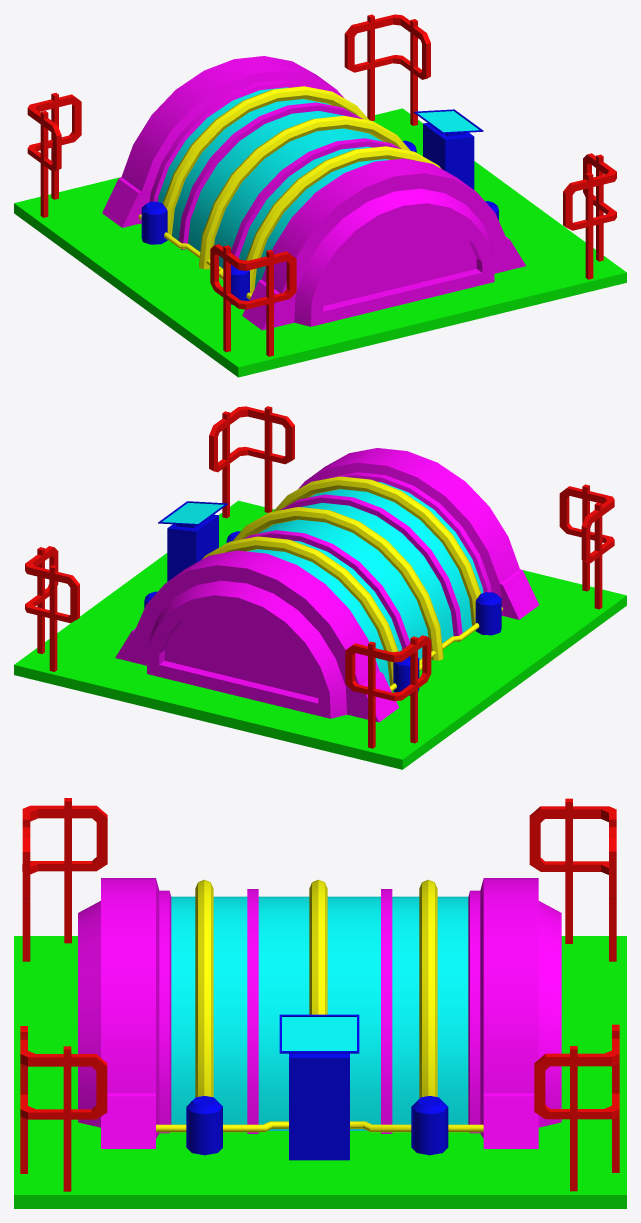
The model's file is SM_generator.FBX.
3 views of the same model, one above another, from view 1: azimuth 30°, elevation 25°; view 2: azimuth 150°, elevation 25°; view 3: azimuth 270°, elevation 25° (orthographic). The views are drawn at different scales.
Visible parts, largest first — view 1: generator; view 2: generator; view 3: generator.
Boxes of the visible parts, left/top/right/bottom form: generator: left=14, top=14, right=626, bottom=377; generator: left=14, top=406, right=626, bottom=769; generator: left=14, top=798, right=626, bottom=1208.
Size of the model in its own units: 400 by 130 by 400.
